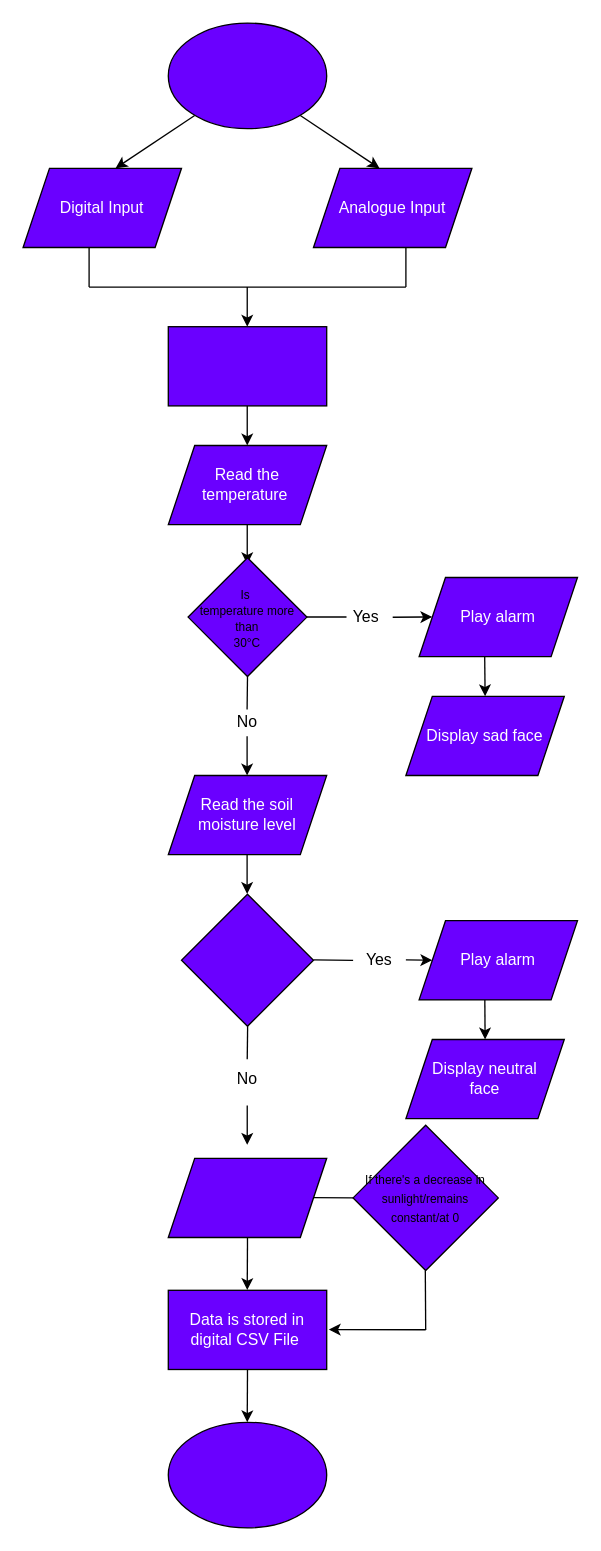
The diagram is 601 pixels wide and 1551 high, and some of its shapes have lost their labels. Here are the shapes that lost their labels. From the top down, the centre of each, then its label:
At (247,75): "Start".
At (247,365): "Set up the system/sensor".
At (247,959): "Is the soil moisture levels below 20% - 50%".
At (247,1197): "Read the light levels".
At (247,1474): "End".
